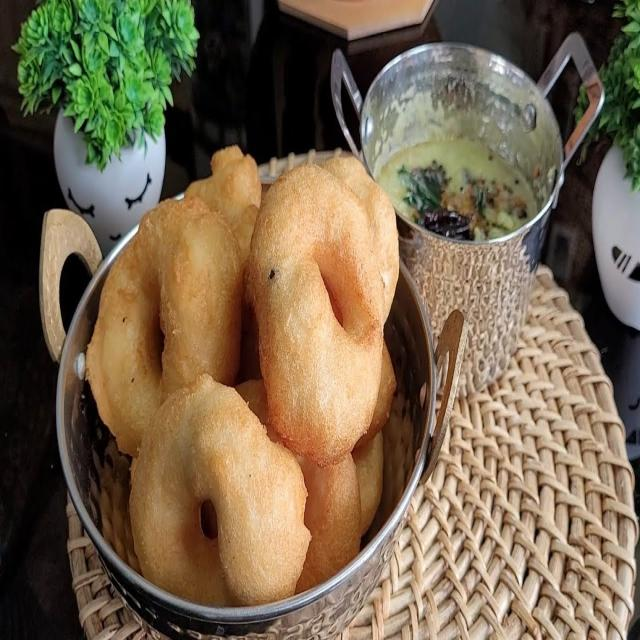MEDU VADA: (248, 164, 388, 467), (86, 189, 244, 457), (131, 374, 311, 605)
